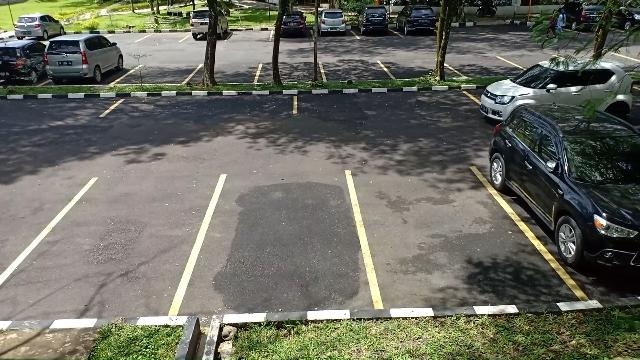empty: (5, 174, 217, 316), (348, 168, 536, 308), (195, 173, 379, 313), (102, 90, 298, 117), (295, 87, 481, 115), (321, 60, 394, 82), (124, 62, 196, 84), (451, 56, 522, 78), (384, 58, 454, 80), (193, 62, 259, 84), (256, 62, 324, 82), (140, 25, 188, 43), (227, 24, 273, 42)
occupied: (490, 148, 640, 298), (46, 43, 130, 87), (0, 42, 46, 88), (186, 10, 230, 42), (354, 8, 394, 40), (394, 9, 438, 38), (311, 12, 355, 40), (270, 16, 314, 40)
